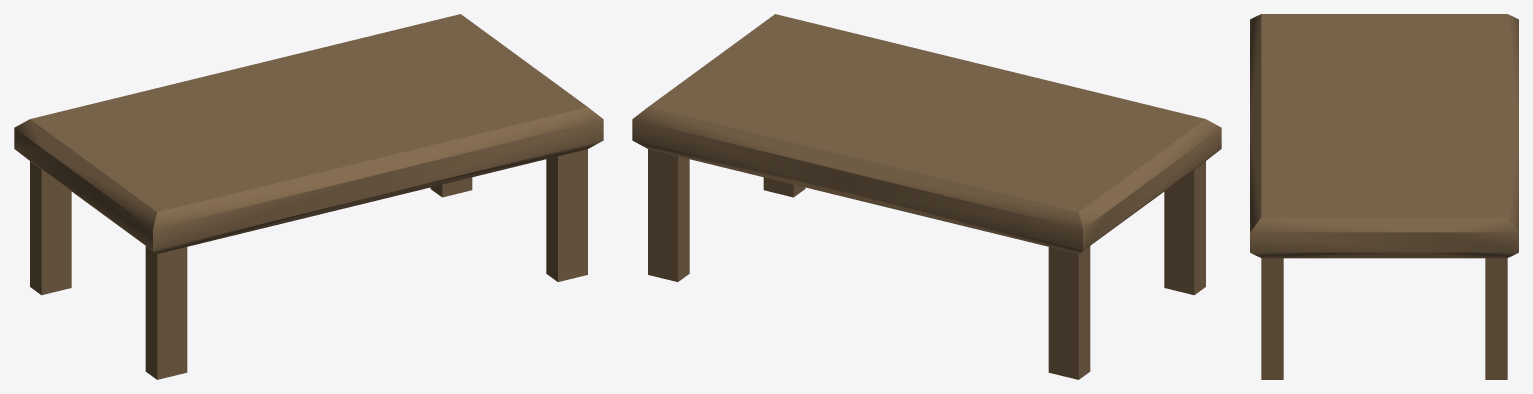
File: table_broken.fbx
3 views of the same model, side by side, from view 1: azimuth 30°, elevation 25°; view 2: azimuth 150°, elevation 25°; view 3: azimuth 270°, elevation 25° (orthographic). The views are drawn at different scales.
Parts seen in each view (by area): view 1: table6, table5, table7, table8; view 2: table6, table7, table8, table5; view 3: table5, table6, table8, table7.
Part boxes in pixels (box(x1,y1,x2,y2)): table6: box(44, 93, 382, 379); table5: box(301, 40, 603, 281); table7: box(14, 63, 300, 295); table8: box(261, 14, 495, 197); table6: box(891, 65, 1221, 295); table7: box(842, 126, 1119, 379); table8: box(632, 81, 888, 281); table5: box(684, 14, 986, 197); table5: box(1250, 117, 1438, 379); table6: box(1250, 14, 1465, 127); table8: box(1413, 123, 1518, 379); table7: box(1427, 14, 1518, 132).
Bounding box in the file's own units: 90 × 32 × 48.
